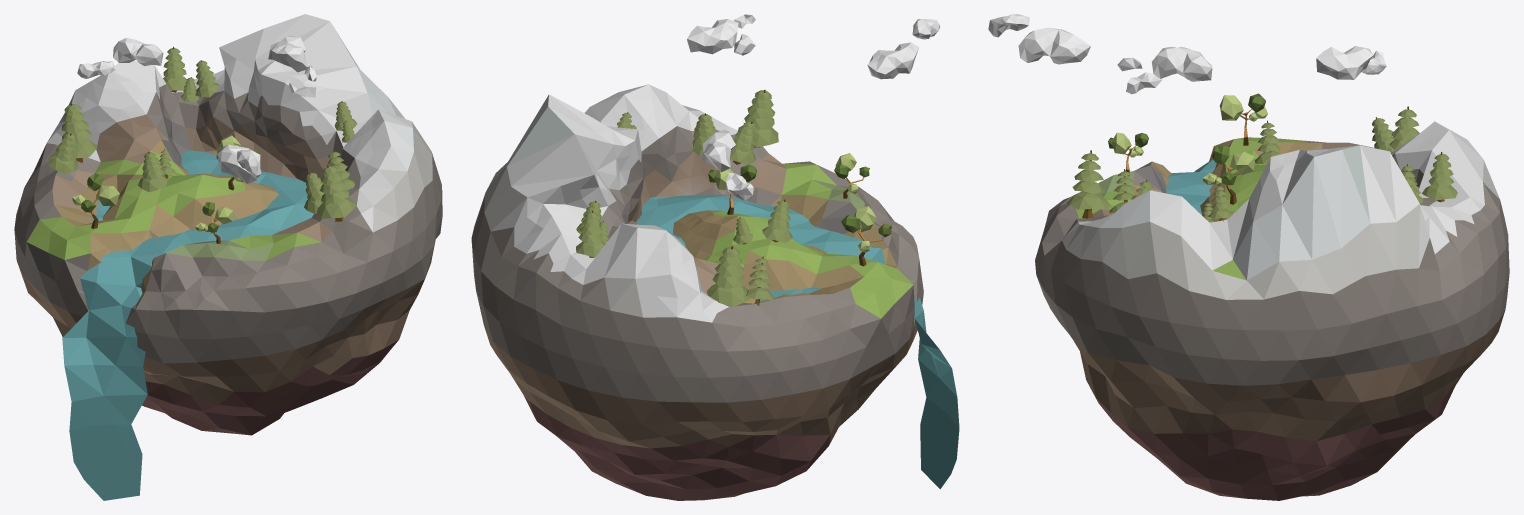
The model's file is mountain-island.glb.
The picture shows the model from 3 angles, left to right: view 1: azimuth 30°, elevation 25°; view 2: azimuth 150°, elevation 25°; view 3: azimuth 270°, elevation 25°; orthographic projection. The views are drawn at different scales.
Parts seen in each view (by area): view 1: Material_002-material, Material_001-material, Material_003-material, Material_007-material.001, Material_007-material.008, Material_007-material.009, Material_008-material.007, Material_007-material.004, Material_007-material.005, Material_007-material.010, Material_005-material.001; view 2: Material_002-material, Material_001-material, Material_003-material, Material_007-material.008, Material_007-material.001, Material_007-material.004, Material_008-material.007, Material_007-material.010, Material_007-material.009, Material_007-material; view 3: Material_002-material, Material_003-material, Material_007-material.001, Material_001-material, Material_007-material.004, Material_007-material.008, Material_005-material.001, Material_008-material.007, Material_005-material.002.
Part boxes in pixels (box(x1,y1,x2,y2)): Material_002-material: box(14, 14, 442, 435); Material_001-material: box(62, 150, 313, 500); Material_003-material: box(77, 36, 316, 183); Material_007-material.001: box(316, 165, 356, 218); Material_007-material.008: box(56, 104, 97, 158); Material_007-material.009: box(48, 133, 78, 174); Material_008-material.007: box(138, 152, 167, 192); Material_007-material.004: box(163, 47, 187, 90); Material_007-material.005: box(195, 60, 219, 97); Material_007-material.010: box(304, 173, 324, 213); Material_005-material.001: box(72, 185, 119, 205); Material_002-material: box(471, 84, 923, 500); Material_001-material: box(636, 195, 959, 489); Material_003-material: box(687, 14, 939, 200); Material_007-material.008: box(707, 247, 750, 306); Material_007-material.001: box(738, 90, 778, 147); Material_007-material.004: box(576, 212, 605, 257); Material_008-material.007: box(762, 199, 792, 242); Material_007-material.010: box(730, 122, 755, 164); Material_007-material.009: box(746, 258, 774, 300); Material_007-material: box(692, 114, 716, 155); Material_002-material: box(1035, 121, 1509, 500); Material_003-material: box(988, 14, 1386, 94); Material_007-material.001: box(1066, 153, 1110, 209); Material_001-material: box(1166, 159, 1216, 214); Material_007-material.004: box(1422, 154, 1457, 200); Material_007-material.008: box(1389, 109, 1419, 153); Material_005-material.001: box(1219, 95, 1267, 121); Material_008-material.007: box(1254, 120, 1280, 164); Material_005-material.002: box(1202, 151, 1254, 185).
Bounding box in the file's own units: 20.92 × 20.54 × 21.87.
